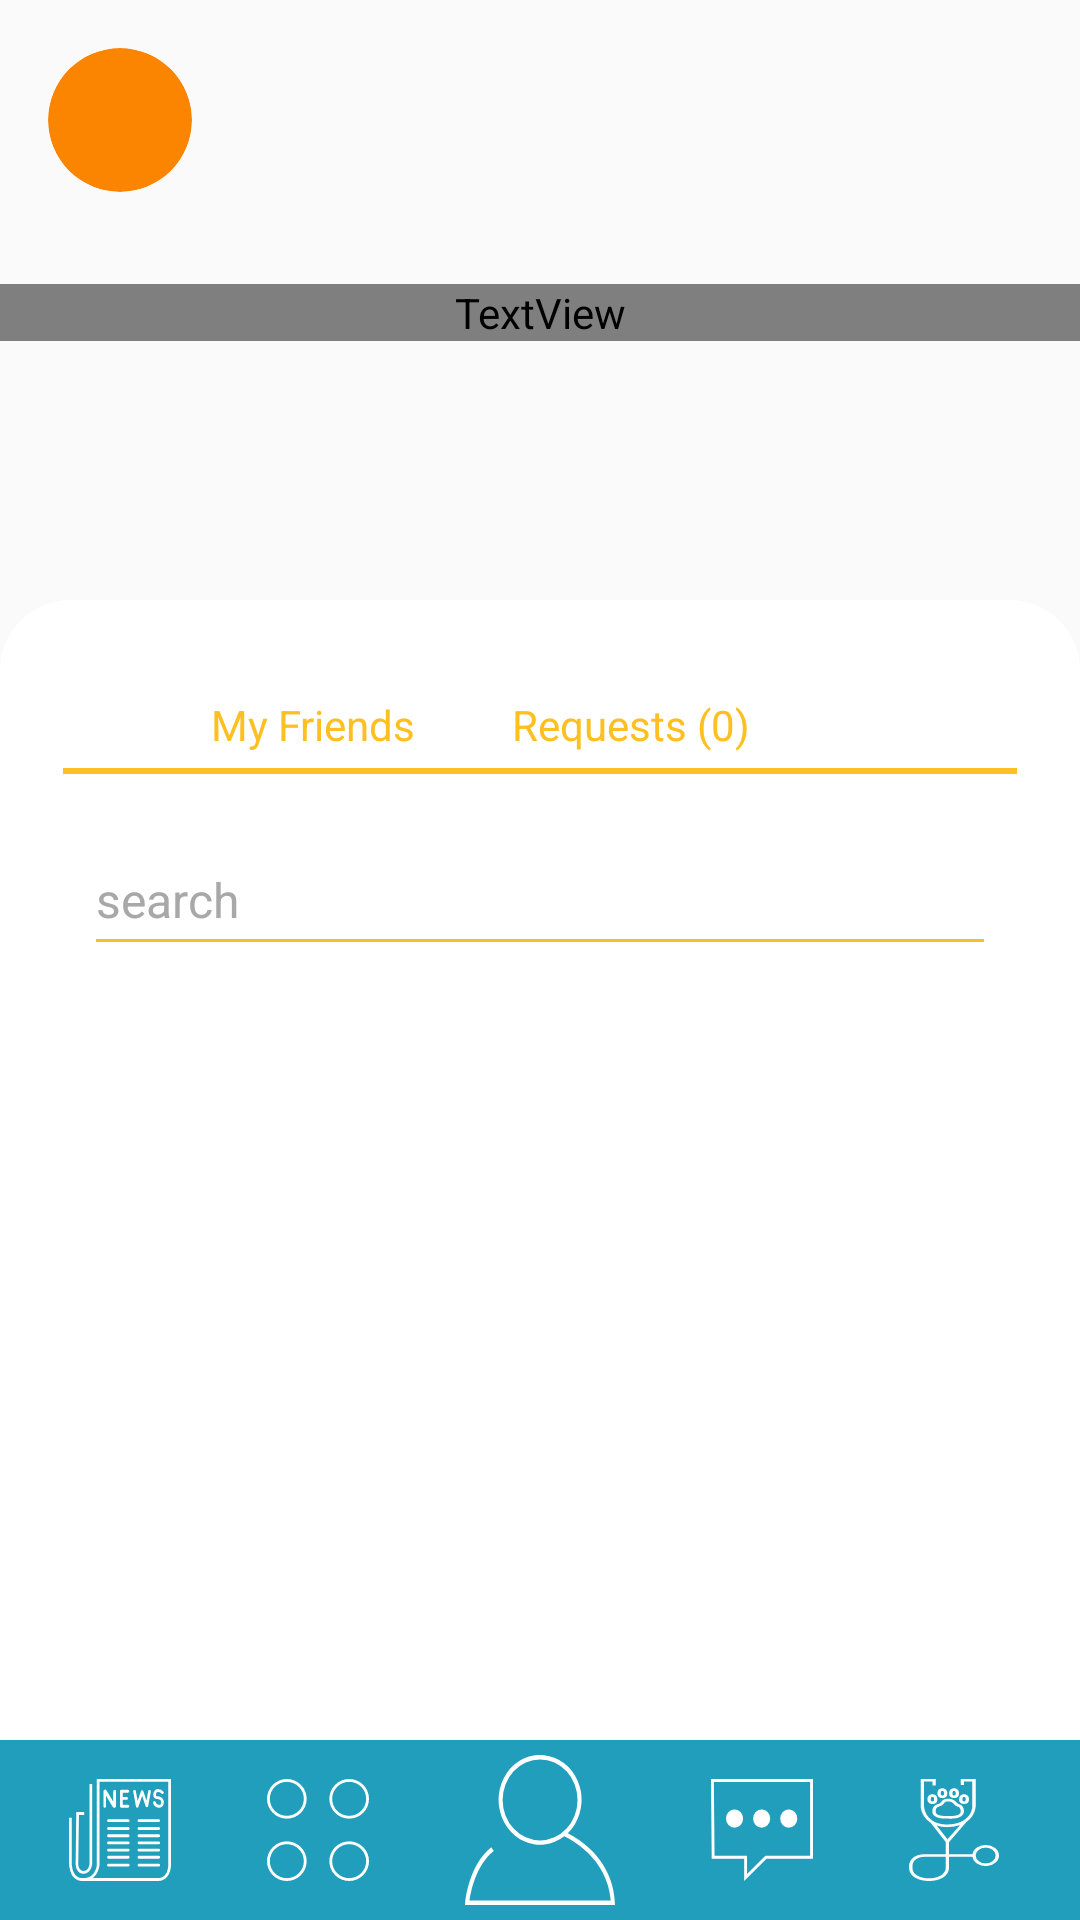

Named icons in this screenshot (1080px x 1920px) and their centers, [x,y]:
Message: [762,1830]
Vets: [954,1830]
